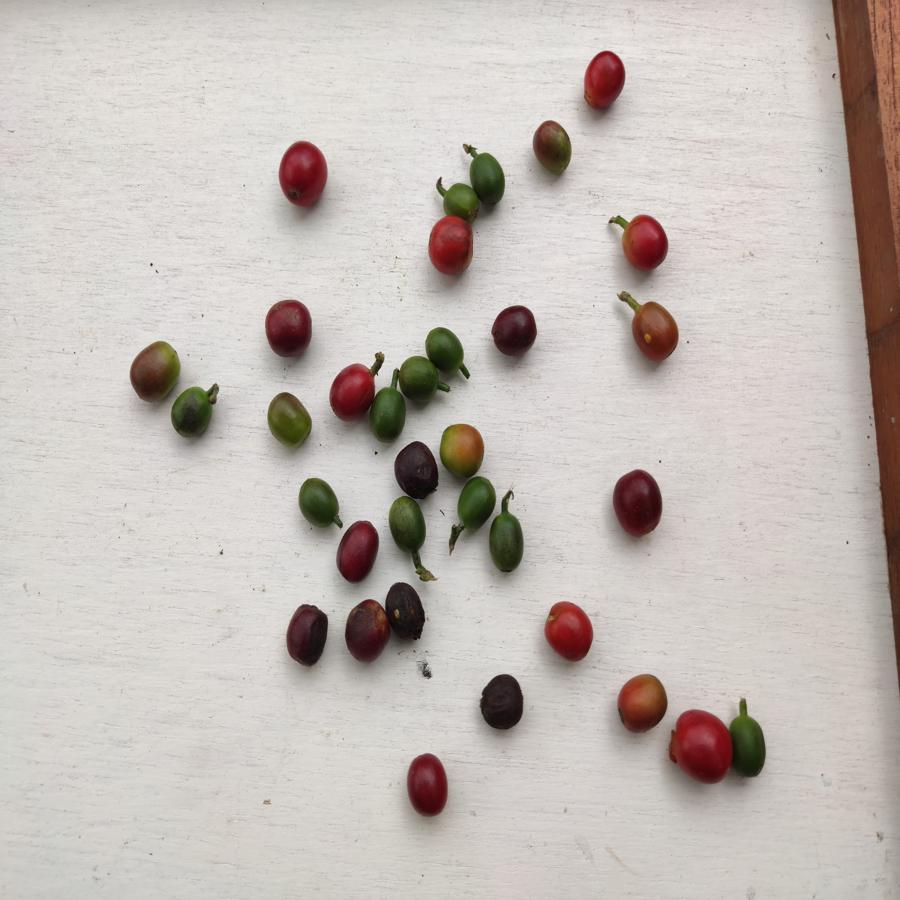Inmaduro: (485, 509, 528, 576), (731, 712, 770, 778), (296, 476, 340, 529), (387, 497, 425, 555), (423, 325, 467, 375), (171, 388, 214, 438), (467, 152, 506, 207), (398, 356, 440, 405), (370, 388, 406, 440), (457, 478, 496, 525), (439, 183, 479, 217)
Maduro: (668, 708, 732, 783), (275, 139, 333, 210), (542, 601, 595, 664), (615, 212, 669, 272), (580, 48, 628, 112), (330, 358, 372, 423), (407, 754, 449, 819), (429, 215, 473, 275)
Pinton: (130, 340, 182, 404), (628, 301, 681, 362), (618, 671, 667, 733), (265, 392, 314, 451), (438, 422, 488, 478), (532, 121, 572, 176)
Sobremaduro: (611, 469, 665, 541), (262, 296, 313, 358), (336, 519, 381, 582), (345, 599, 389, 662), (478, 674, 526, 731), (393, 440, 438, 500), (286, 604, 329, 666), (491, 305, 539, 356), (387, 581, 426, 642)
